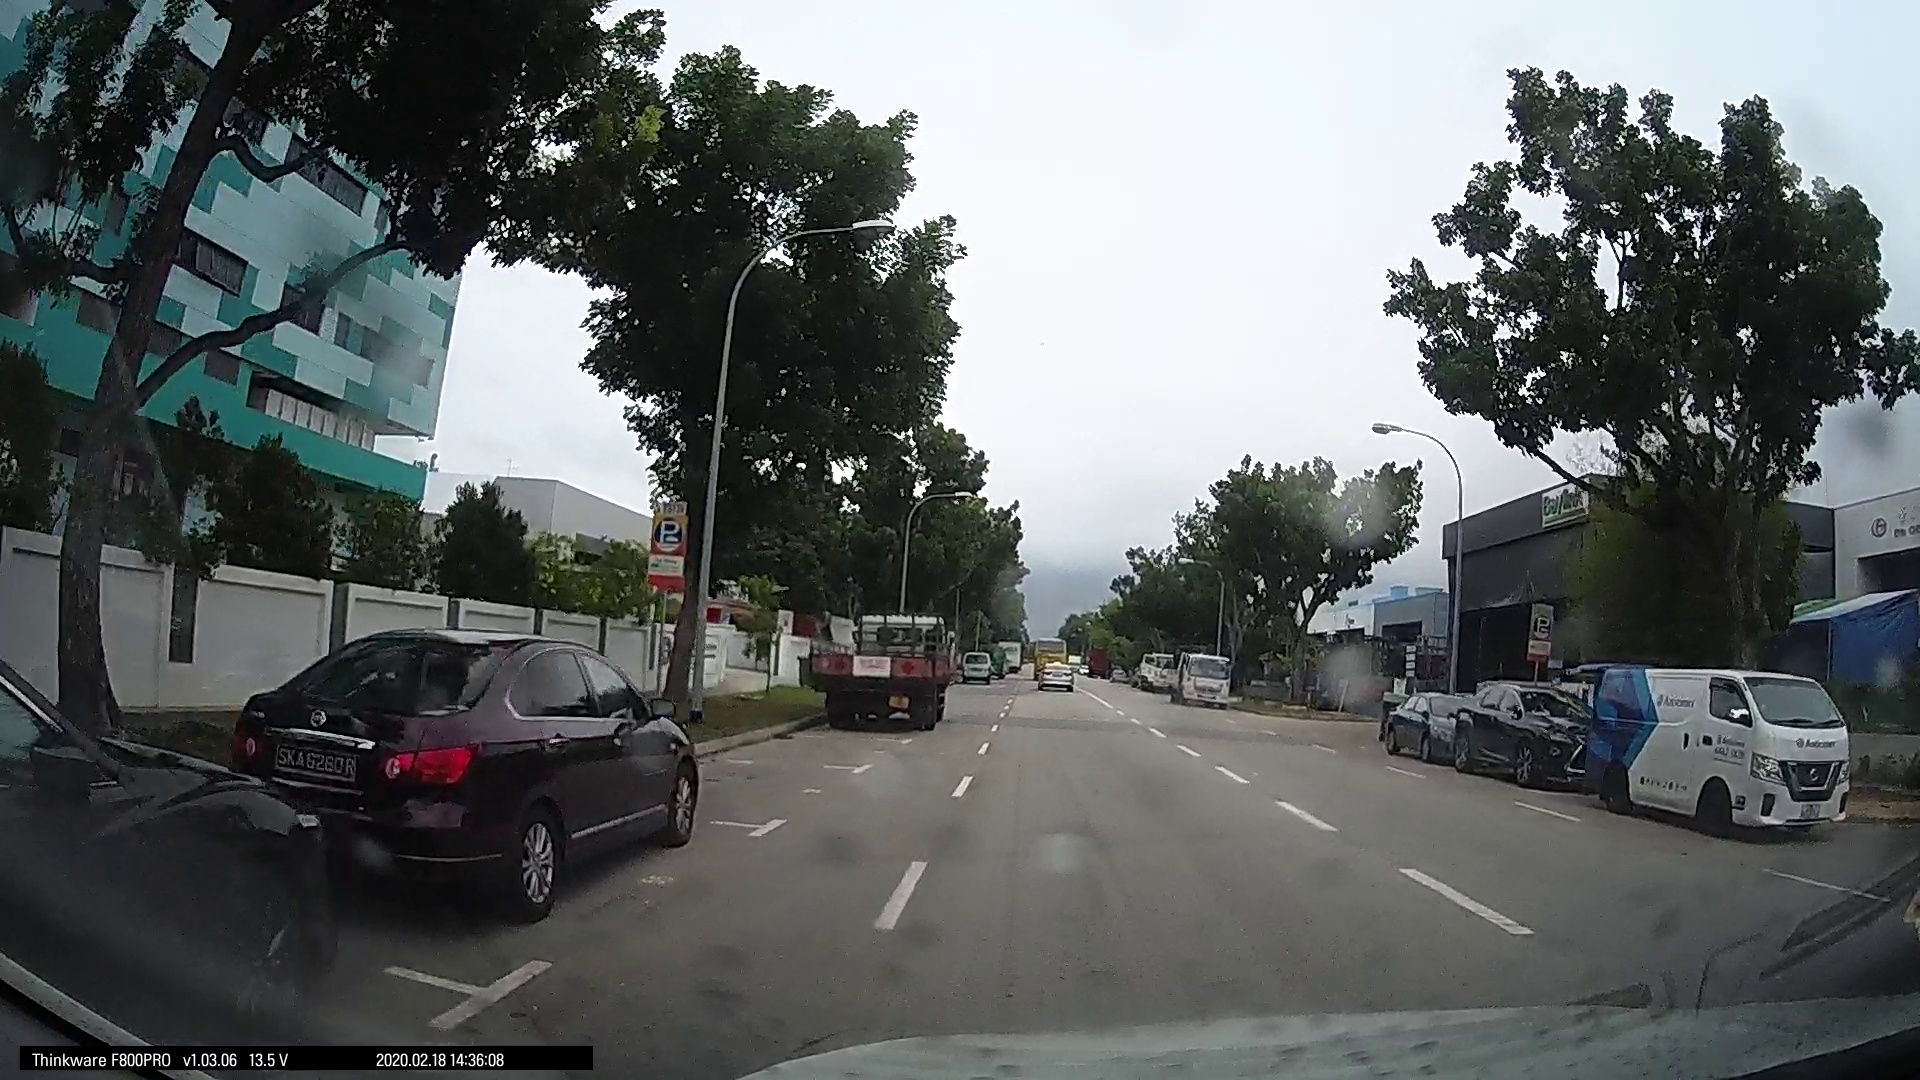Heavy Vehicle: (812, 611, 953, 731)
Light Vehicle: (224, 618, 709, 916), (3, 636, 342, 996), (1578, 657, 1859, 840), (1448, 676, 1593, 786), (1378, 686, 1464, 764), (1164, 646, 1232, 704), (1031, 647, 1076, 687), (956, 644, 997, 683)
